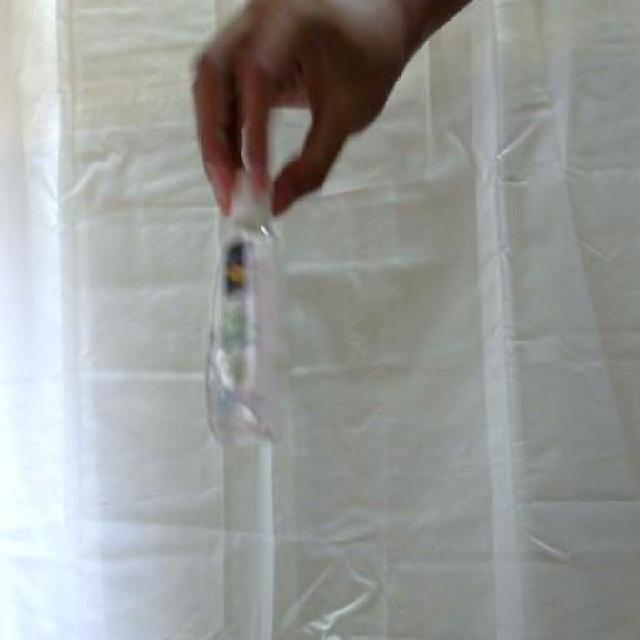Plastic: (197, 165, 288, 457)
